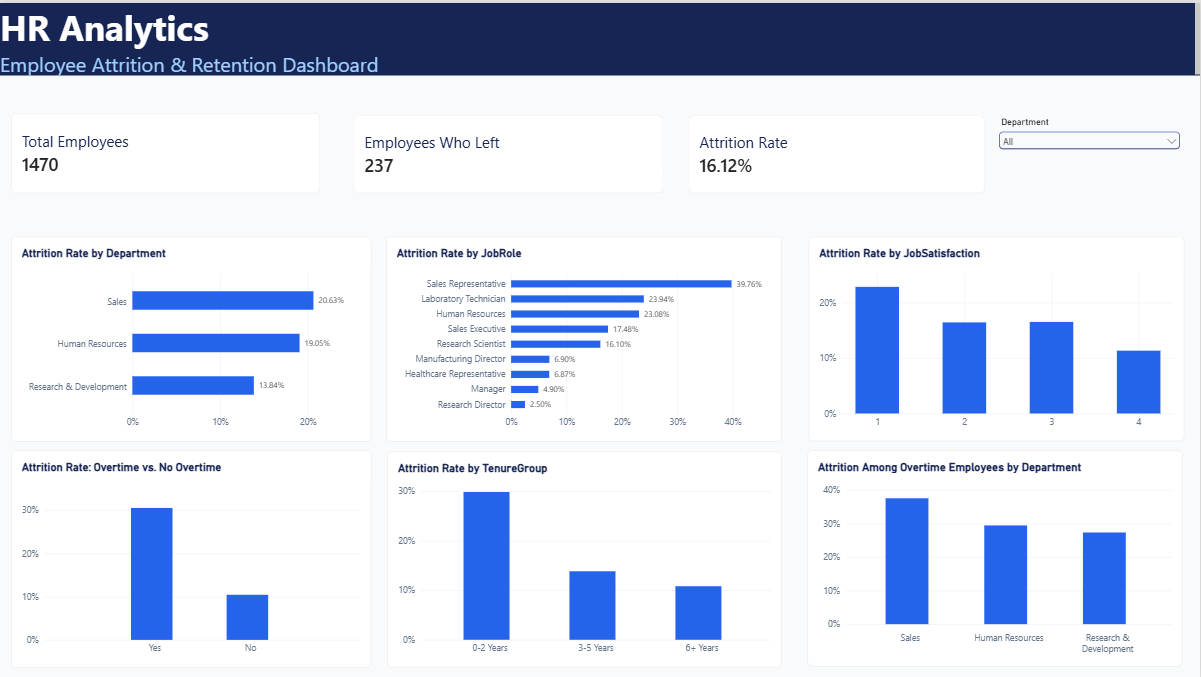

The dashboard page shown, as its layout file describes it:
{"tool":"powerbi","page":{"name":"HR_Analytiics","canvas":[1920,1080],"ordinal":0},"visuals":[{"type":"cardVisual","fields":{"Data":["CountNonNull(HR-Employee-Attrition csv.EmployeeNumber)"]},"box":[18.1,175.5,494,128.5],"z":0},{"type":"cardVisual","fields":{"Data":["CountNonNull(HR-Employee-Attrition csv.Attrition)"]},"box":[566.4,179.2,495.8,124.9],"z":1},{"type":"cardVisual","fields":{"Data":["HR-Employee-Attrition csv.Attrition Rate"]},"box":[1102.1,179.2,474.1,124.9],"z":2},{"type":"clusteredBarChart","fields":{"Category":["HR-Employee-Attrition csv.Department"],"Y":["HR-Employee-Attrition csv.Attrition Rate"]},"box":[18.1,374.6,576.1,328.3],"z":3},{"type":"clusteredColumnChart","title":"Attrition Rate: Overtime vs. No Overtime","fields":{"Category":["HR-Employee-Attrition csv.OverTime"],"Y":["HR-Employee-Attrition csv.Attrition Rate"]},"box":[17.4,715.2,576.1,347.8],"z":4},{"type":"clusteredBarChart","fields":{"Category":["HR-Employee-Attrition csv.JobRole"],"Y":["HR-Employee-Attrition csv.Attrition Rate"]},"box":[618.9,374.6,632.6,328.3],"z":5},{"type":"clusteredColumnChart","fields":{"Category":["HR-Employee-Attrition csv.TenureGroup"],"Y":["HR-Employee-Attrition csv.Attrition Rate"]},"box":[619.6,717.4,630.4,345.7],"z":6},{"type":"clusteredColumnChart","fields":{"Category":["HR-Employee-Attrition csv.JobSatisfaction"],"Y":["HR-Employee-Attrition csv.Attrition Rate"]},"box":[1293.9,374.6,600.8,327.5],"z":7},{"type":"clusteredColumnChart","title":"Attrition Among Overtime Employees by Department","fields":{"Category":["HR-Employee-Attrition csv.Department"],"Y":["HR-Employee-Attrition csv.Attrition Rate"]},"box":[1291.3,715.2,600,345.7],"z":8},{"type":"textbox","box":[0,0,1920.1,115.8],"z":9},{"type":"slicer","fields":{"Values":["HR-Employee-Attrition csv.Department"]},"box":[1594.3,182.8,298.6,117.6],"z":10}]}

Visuals, with their boxes in screenshot pixels (x1, y1, x2, y2), scaled from the page's 1920x1080 canvas onto the 1201x677 screenshot:
cardVisual - CountNonNull(HR-Employee-Attrition csv.EmployeeNumber): [left=11, top=110, right=320, bottom=191]
cardVisual - CountNonNull(HR-Employee-Attrition csv.Attrition): [left=354, top=112, right=664, bottom=191]
cardVisual - HR-Employee-Attrition csv.Attrition Rate: [left=689, top=112, right=986, bottom=191]
clusteredBarChart - HR-Employee-Attrition csv.Department x HR-Employee-Attrition csv.Attrition Rate: [left=11, top=235, right=372, bottom=441]
"Attrition Rate: Overtime vs. No Overtime" clusteredColumnChart: [left=11, top=448, right=371, bottom=666]
clusteredBarChart - HR-Employee-Attrition csv.JobRole x HR-Employee-Attrition csv.Attrition Rate: [left=387, top=235, right=783, bottom=441]
clusteredColumnChart - HR-Employee-Attrition csv.TenureGroup x HR-Employee-Attrition csv.Attrition Rate: [left=388, top=450, right=782, bottom=666]
clusteredColumnChart - HR-Employee-Attrition csv.JobSatisfaction x HR-Employee-Attrition csv.Attrition Rate: [left=809, top=235, right=1185, bottom=440]
"Attrition Among Overtime Employees by Department" clusteredColumnChart: [left=808, top=448, right=1183, bottom=665]
textbox: [left=0, top=0, right=1200, bottom=73]
slicer - HR-Employee-Attrition csv.Department: [left=997, top=115, right=1184, bottom=188]
